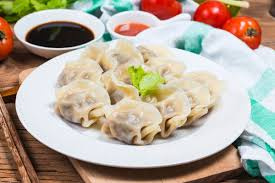Pangsit: (54, 80, 111, 129), (103, 98, 161, 146), (148, 87, 190, 137), (90, 38, 141, 69), (143, 46, 192, 77), (102, 69, 146, 99), (58, 57, 101, 83), (184, 81, 210, 122)
